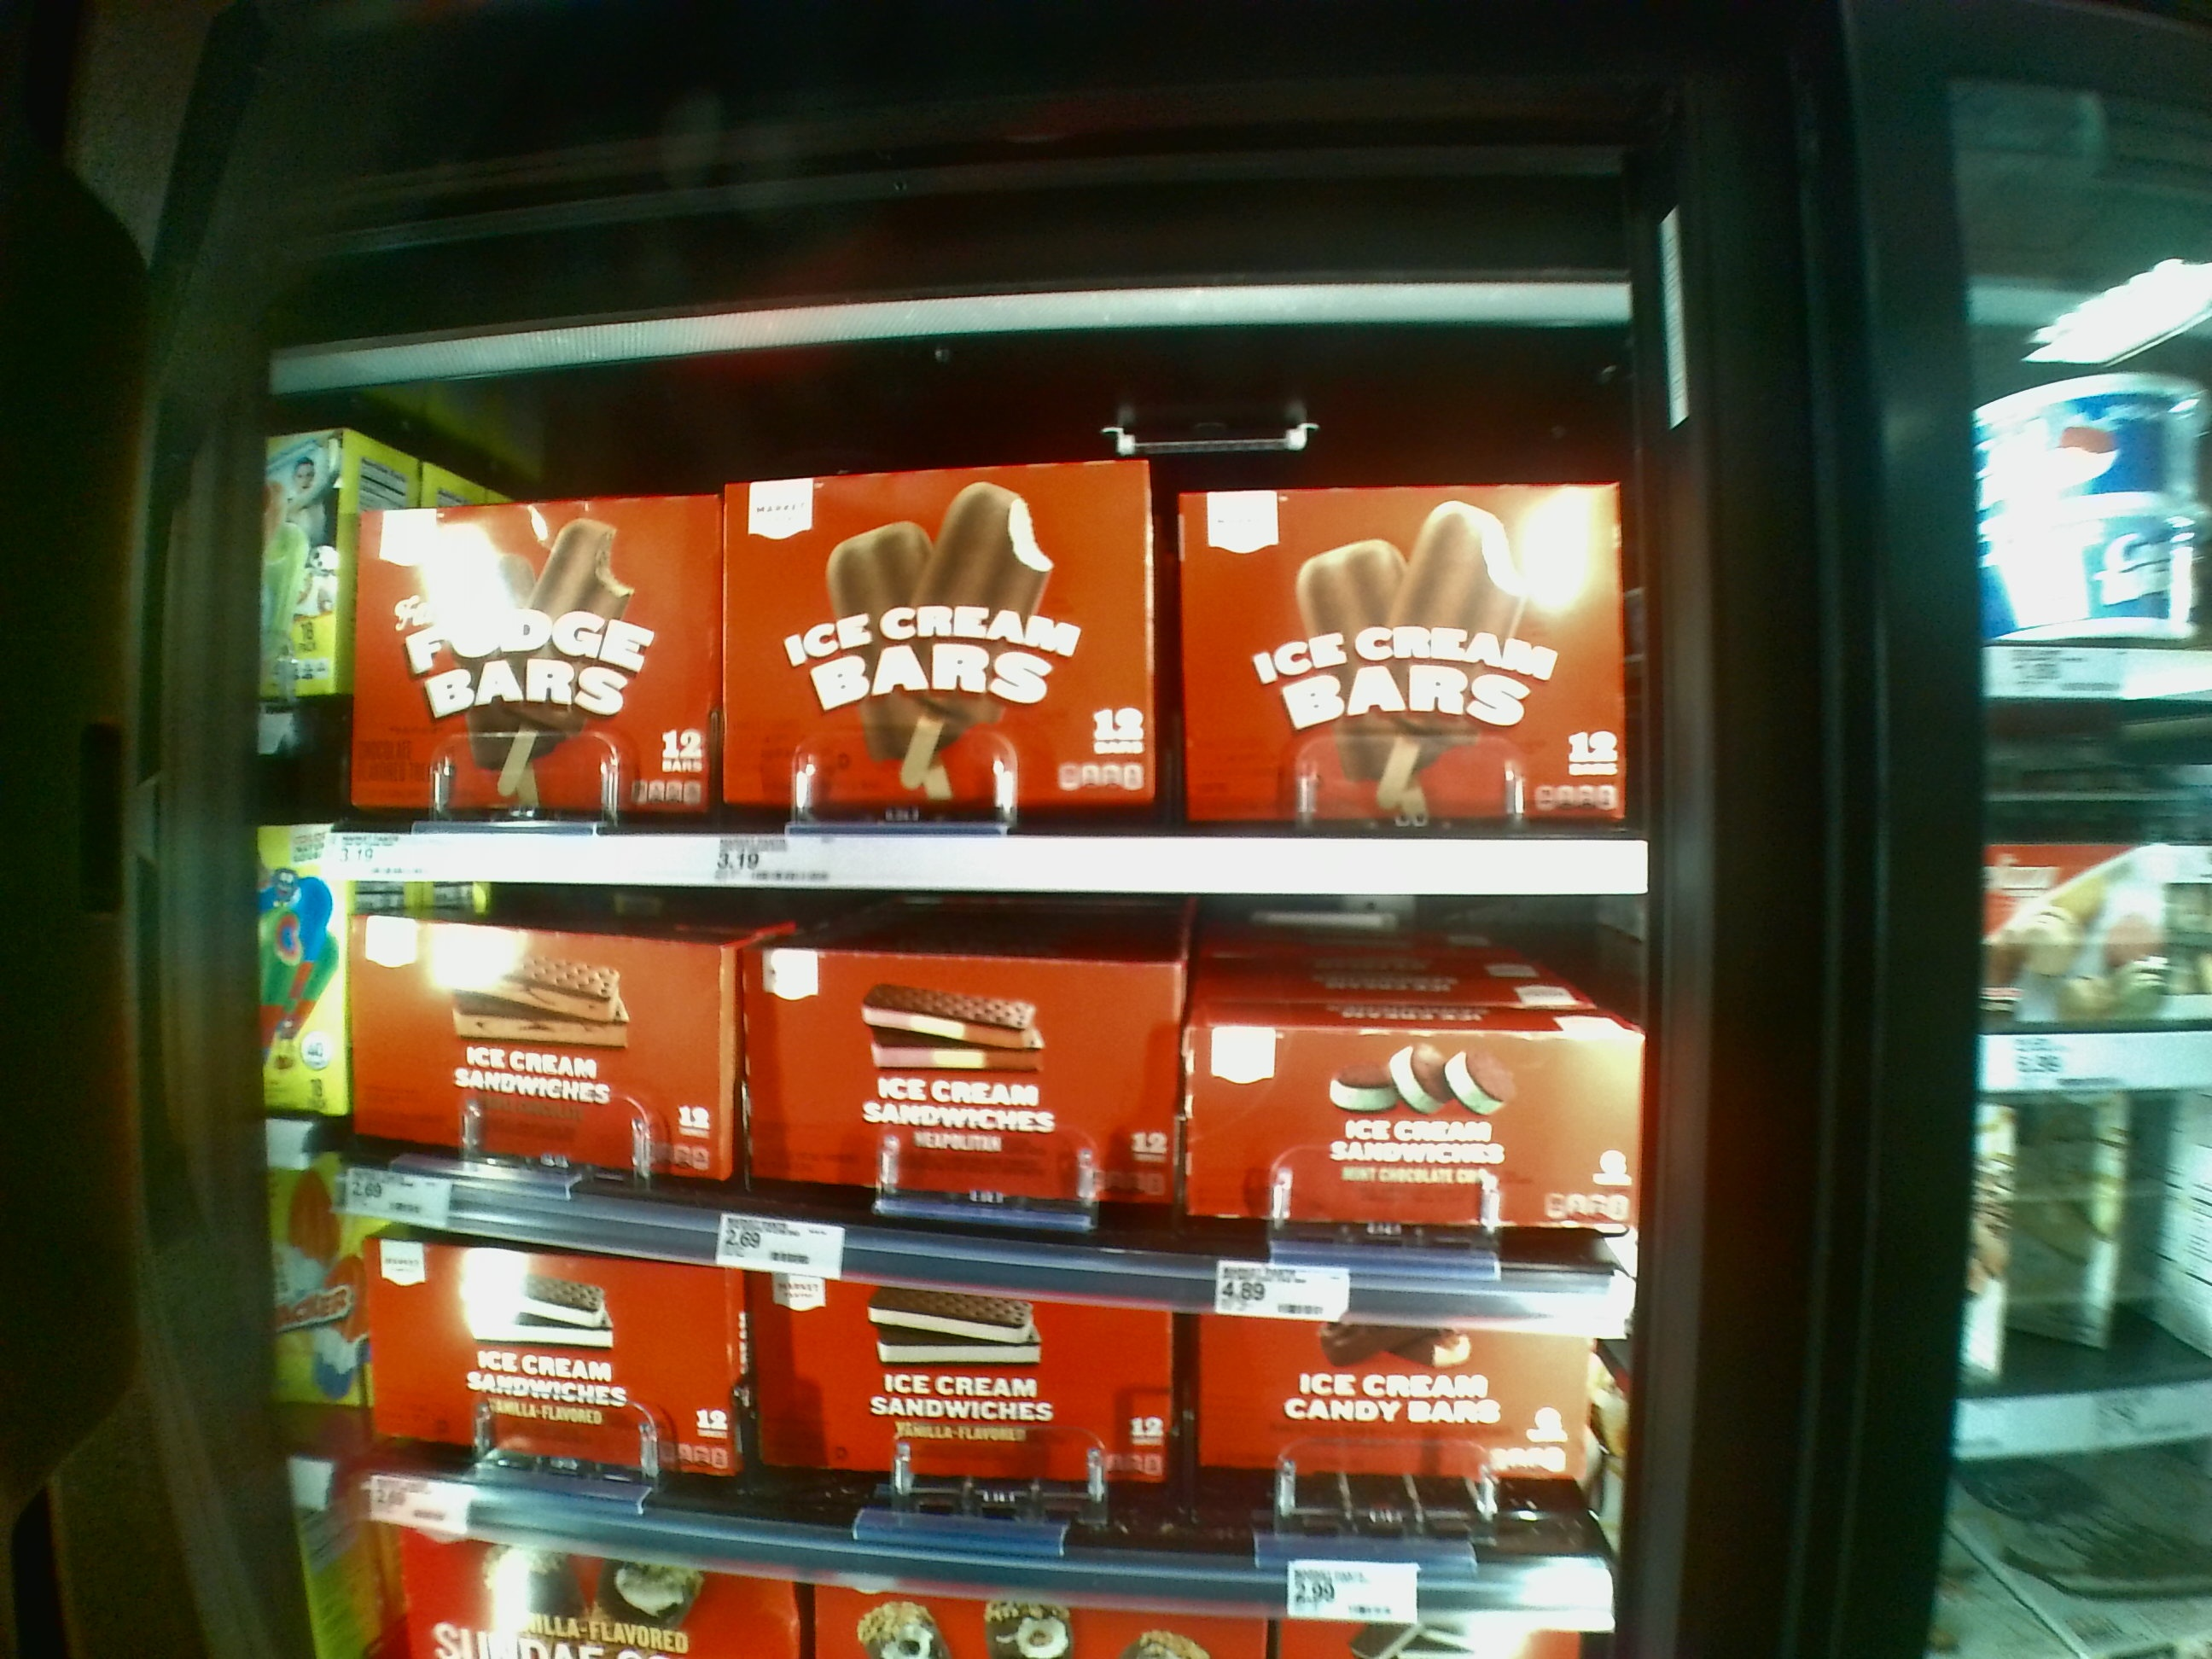shelf: (347, 401, 1637, 882), (362, 856, 1625, 1284), (348, 1236, 1635, 1588)
